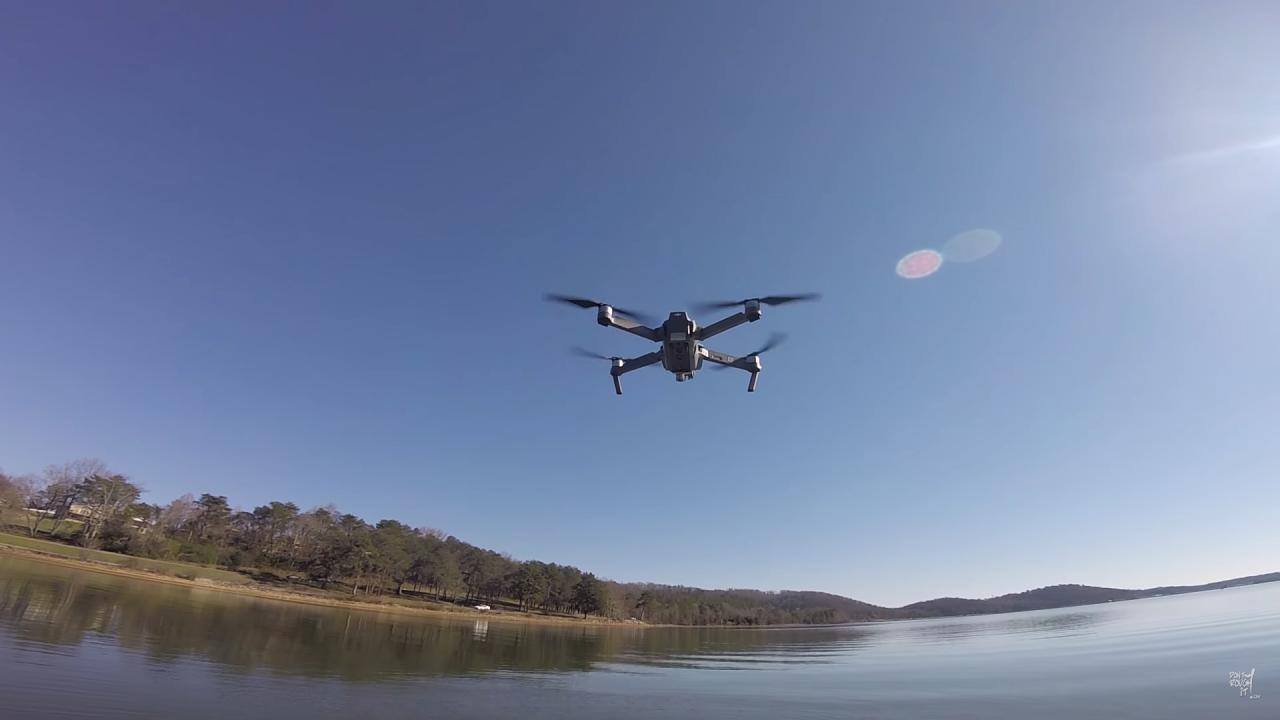Drone: (530, 270, 833, 412)
